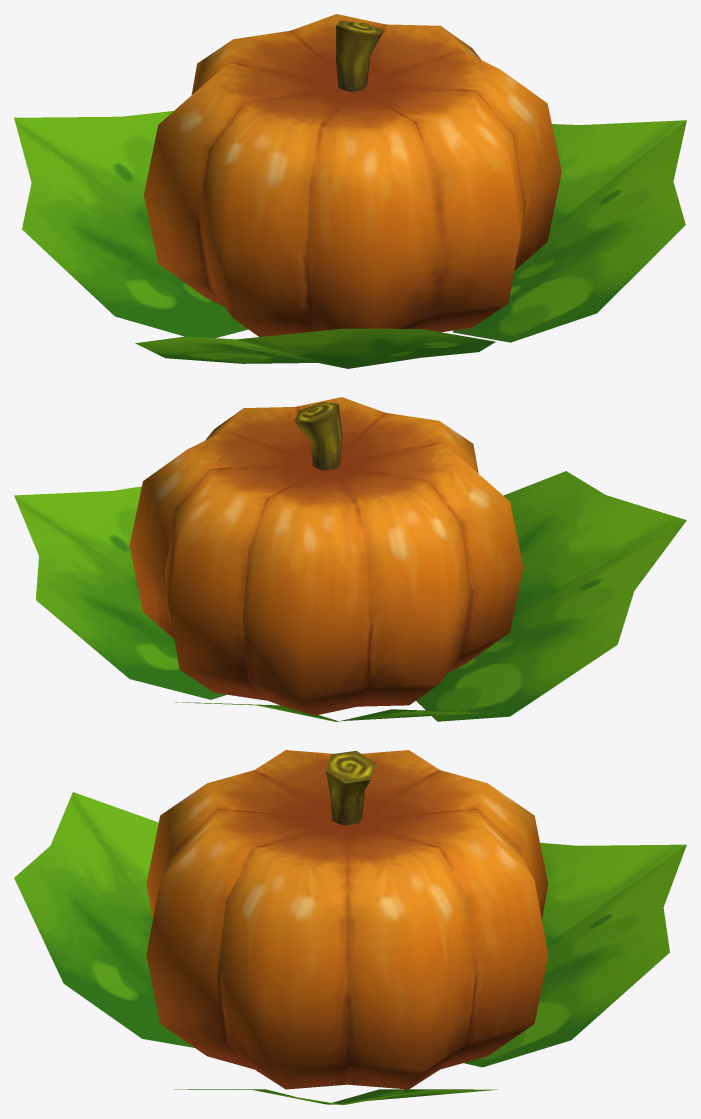
File: pumpkin_growing.fbx
3 views of the same model, one above another, from view 1: azimuth 30°, elevation 25°; view 2: azimuth 150°, elevation 25°; view 3: azimuth 270°, elevation 25° (orthographic). The views are drawn at different scales.
Visible parts, largest first — view 1: pumpkin_growing; view 2: pumpkin_growing; view 3: pumpkin_growing.
Boxes of the visible parts, x1=… form: pumpkin_growing: x1=14, y1=14, x2=686, y2=368; pumpkin_growing: x1=14, y1=397, x2=686, y2=721; pumpkin_growing: x1=14, y1=750, x2=686, y2=1104.
Size of the model in its own units: 1.26 by 0.6239 by 1.2.
1 material, 1 textured.
